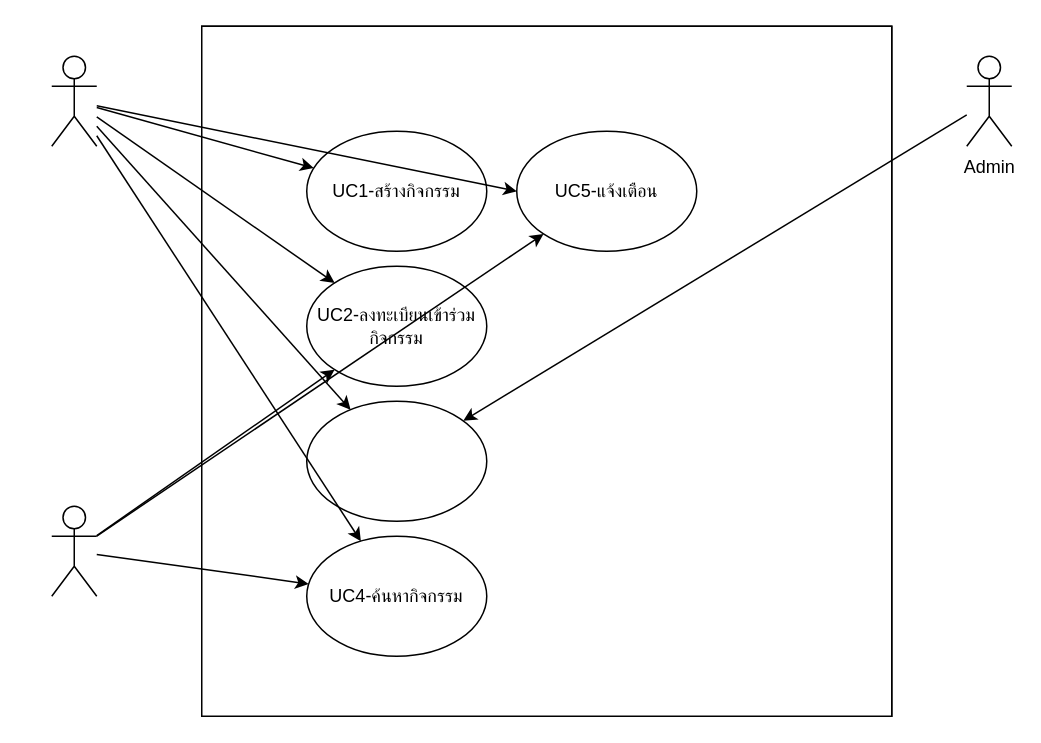
This 1041x743 diagram has some shape labels left out. Here are the shapes that lost their labels. From the top down, the centre of each, then its label:
point 73,100: ผู้สร้างกิจกรรม
point 396,460: UC3-จัดการใบประกาศ
point 73,550: ผู้เข้าร่วม
